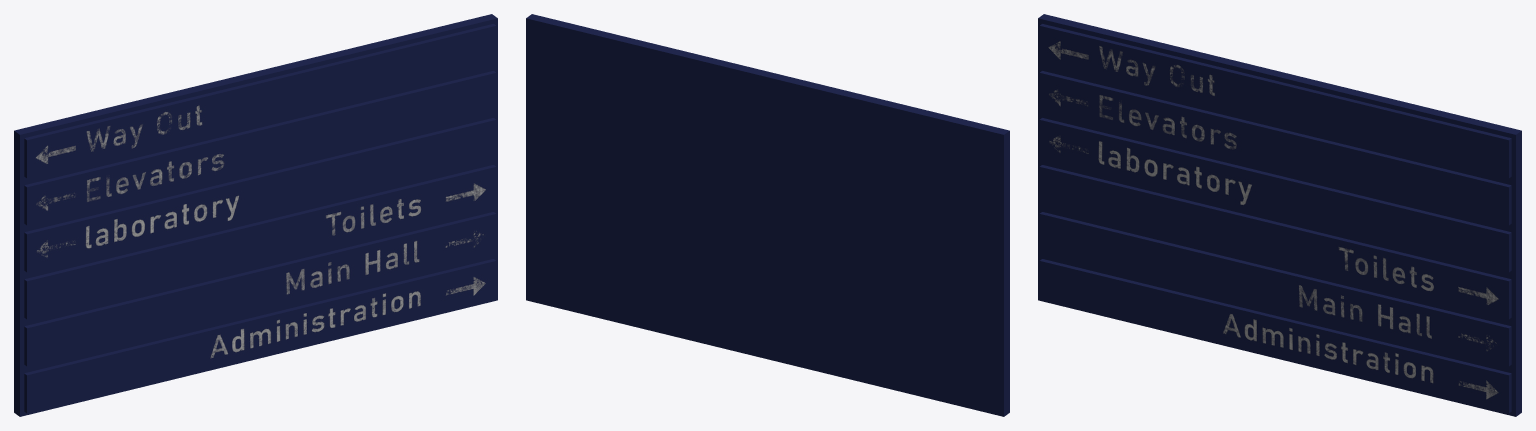
File: hospital_direction_sign(1).glb
3 renders of one model, left to right at view 1: azimuth 30°, elevation 25°; view 2: azimuth 150°, elevation 25°; view 3: azimuth 330°, elevation 25°, orthographic.
Visible parts, largest first — view 1: SM_direction_sign; view 2: SM_direction_sign; view 3: SM_direction_sign.
Part boxes in pixels (x1=…): SM_direction_sign: x1=14, y1=14, x2=497, y2=416; SM_direction_sign: x1=526, y1=14, x2=1009, y2=416; SM_direction_sign: x1=1038, y1=14, x2=1521, y2=416.
Bounding box in the file's own units: 238 × 134 × 7.42.
Materials: 1 (1 with a texture image).
